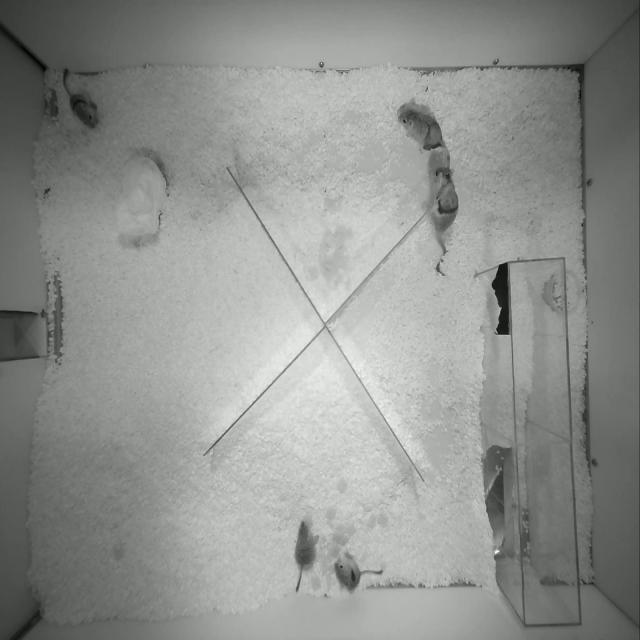adult_back: (398, 105, 444, 150)
adult_front: (431, 167, 458, 254)
pup_fluffy: (294, 519, 319, 592)
pup_h_stripe: (63, 69, 99, 128)
pup_spotted: (334, 549, 383, 592)
